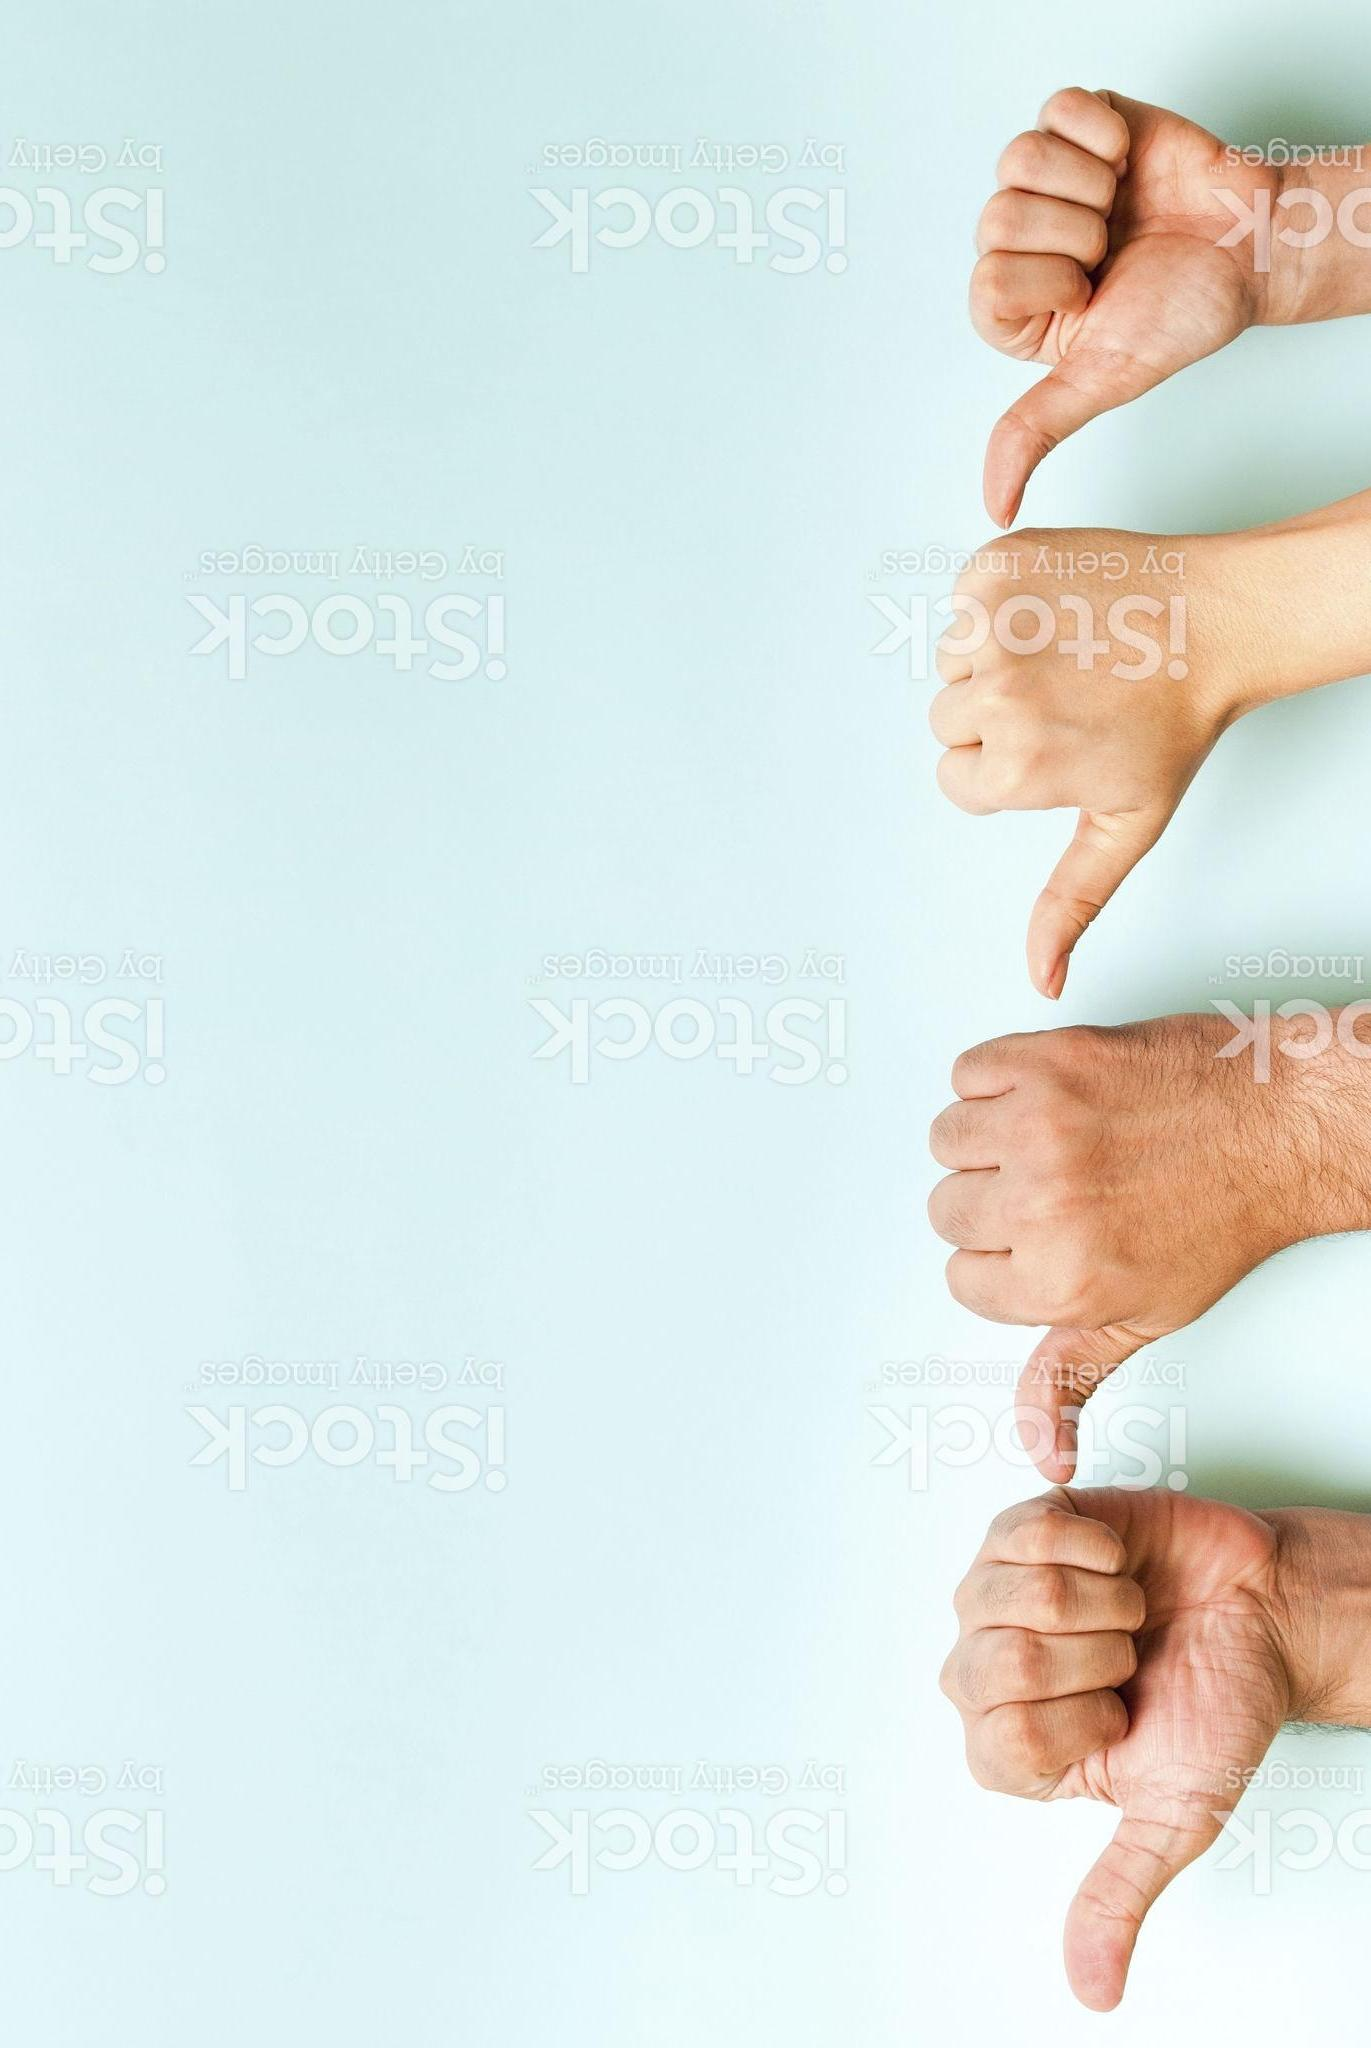thumbsdown: (935, 1488, 1220, 2016), (972, 83, 1177, 531)
